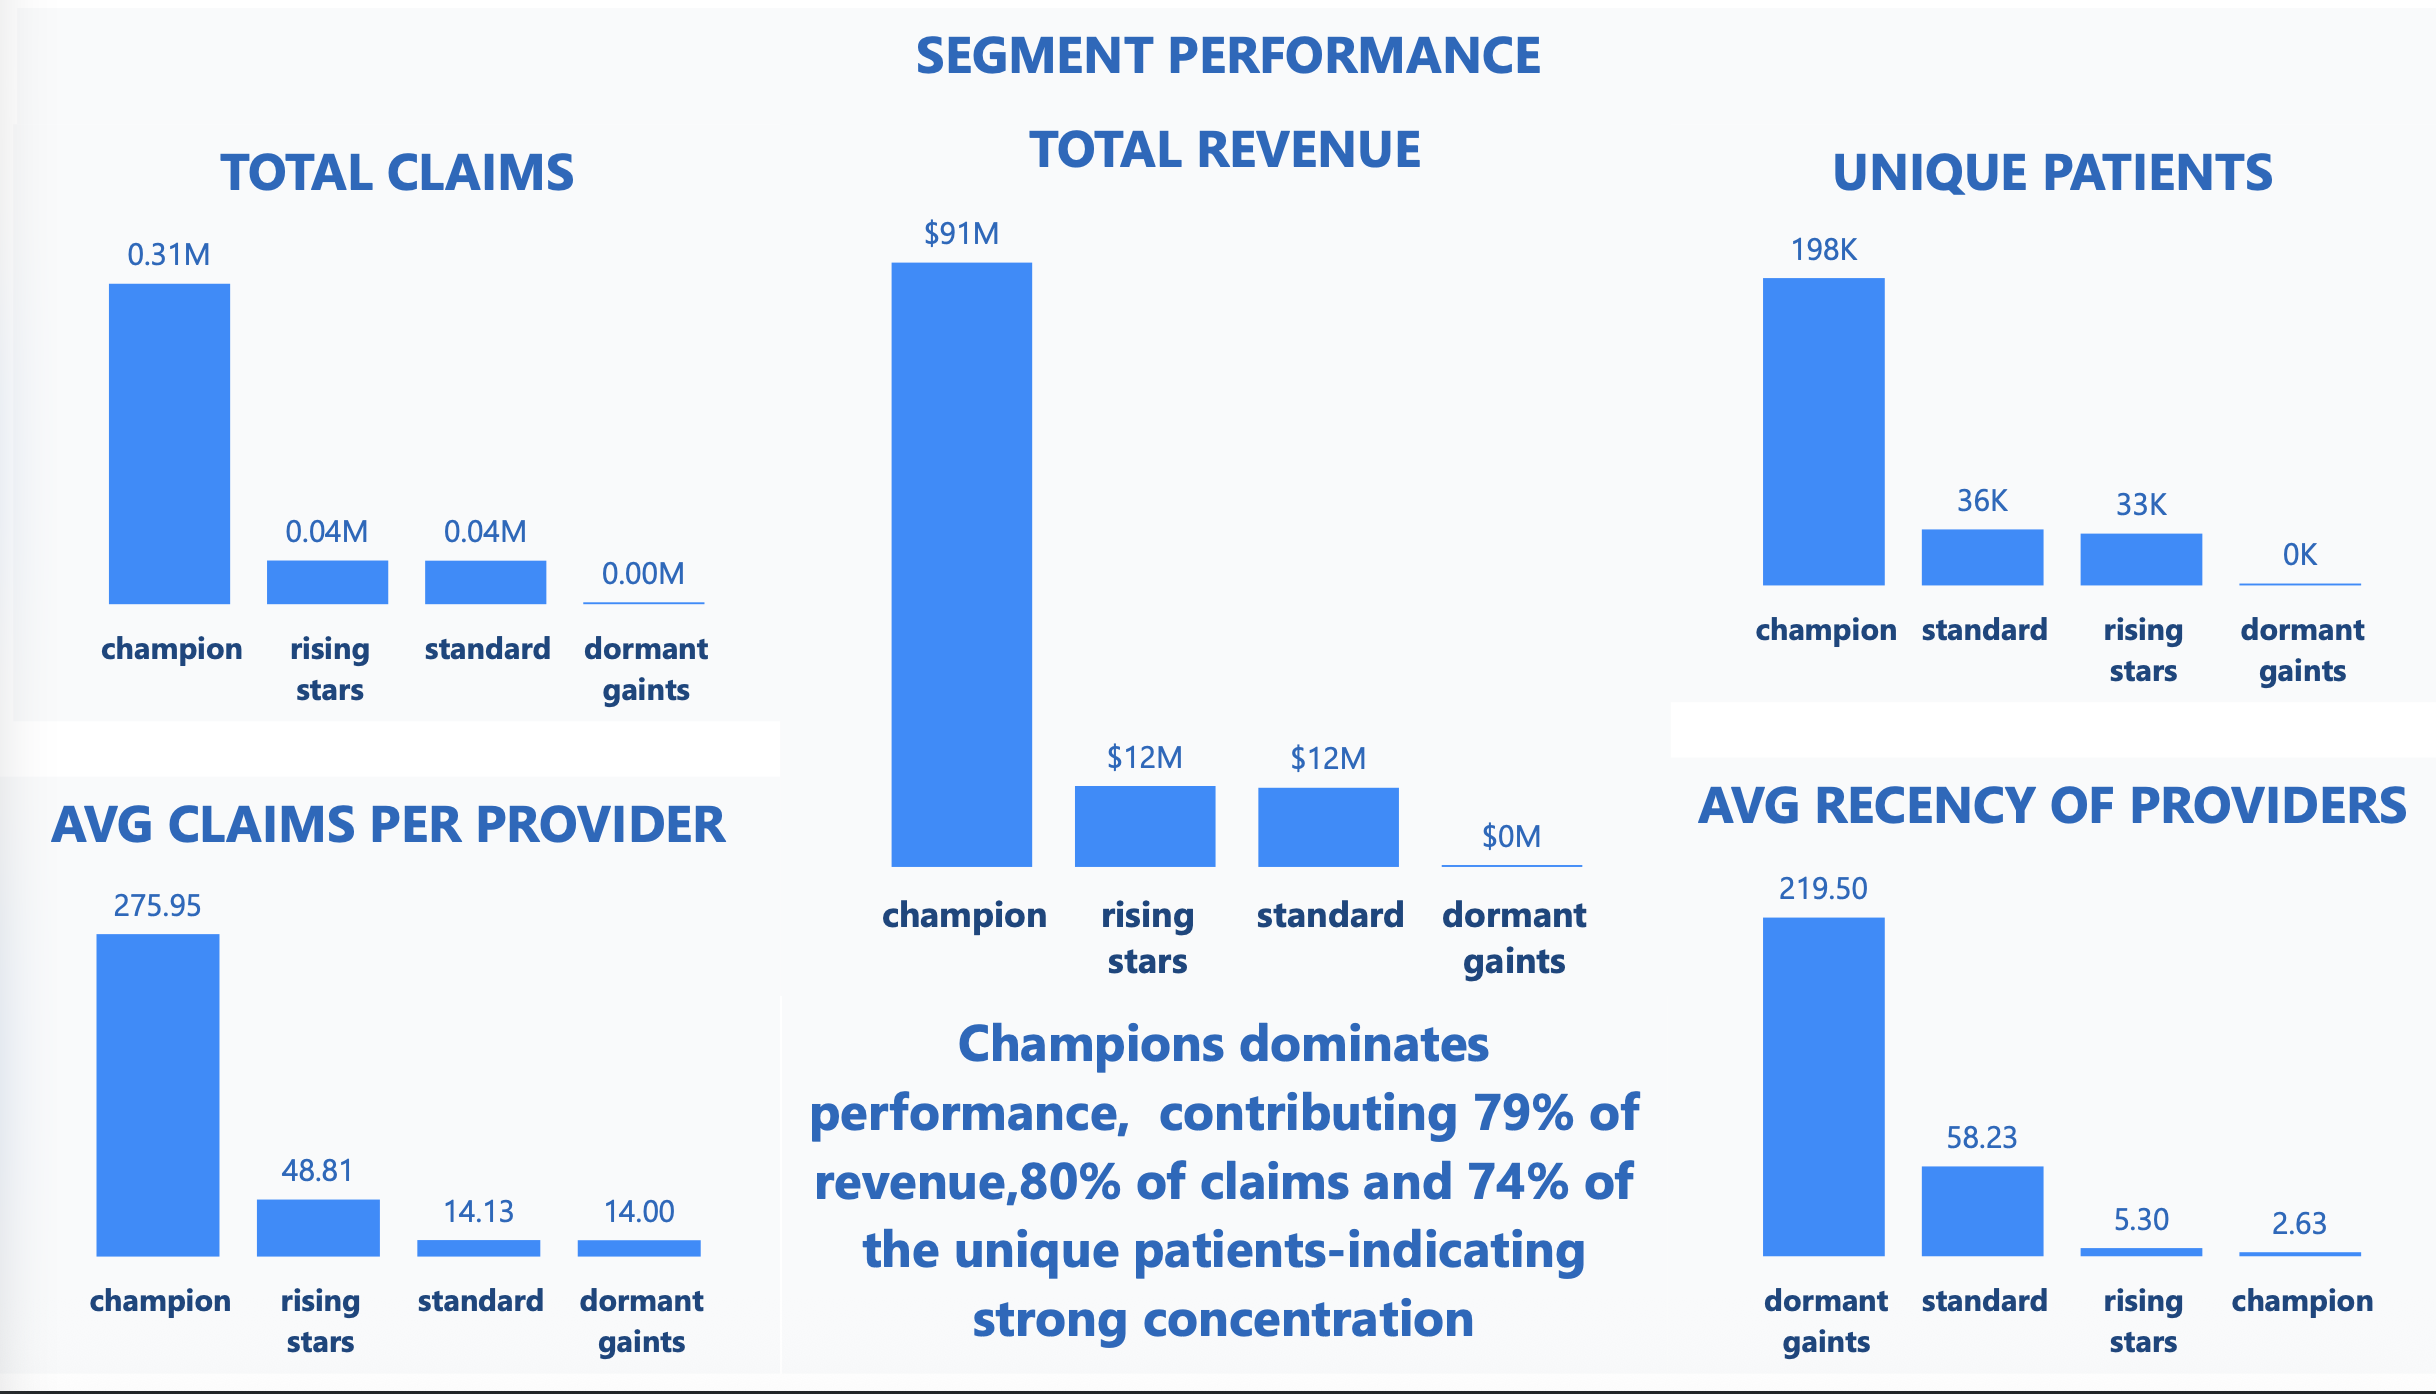

The page's visual inventory and layout, read from the dashboard file:
{"tool":"powerbi","page":{"name":"SEGMENT PERFORMANCE","canvas":[1280,720],"ordinal":1},"visuals":[{"type":"textbox","box":[9.8,0,1270.5,60.7],"z":0},{"type":"clusteredColumnChart","title":"TOTAL REVENUE ","fields":{"Category":["provider_segmentated_final.segment"],"Y":["Sum(provider_segmentated_final.total_revenue)"]},"box":[409.8,49.2,467.2,468.9],"z":1000},{"type":"clusteredColumnChart","title":"TOTAL CLAIMS","fields":{"Category":["provider_segmentated_final.segment"],"Y":["Sum(provider_segmentated_final.total_claim)"]},"box":[8.2,60.7,403.3,313.1],"z":2000},{"type":"clusteredColumnChart","title":"UNIQUE PATIENTS","fields":{"Category":["provider_segmentated_final.segment"],"Y":["Sum(provider_segmentated_final.unique_patients)"]},"box":[875.4,60.7,404.9,303.3],"z":3000},{"type":"clusteredColumnChart","title":"AVG CLAIMS PER PROVIDER","fields":{"Category":["provider_segmentated_final.segment"],"Y":["Avg(provider_segmentated_final.total_claim)"]},"box":[0,403.3,409.8,313.1],"z":4000},{"type":"clusteredColumnChart","title":"AVG RECENCY OF PROVIDERS","fields":{"Category":["provider_segmentated_final.segment"],"Y":["Avg(provider_segmentated_final.days_since_lastclaim)"]},"box":[875.4,393.4,404.9,323],"z":5000},{"type":"textbox","box":[411.5,518,463.9,198.4],"z":6000}]}

Visuals, with their boxes in screenshot pixels (x1, y1, x2, y2), scaled from the page's 1280x720 canvas onto the 2436x1394 screenshot:
textbox: {"left": 19, "top": 0, "right": 2435, "bottom": 118}
"TOTAL REVENUE " clusteredColumnChart: {"left": 780, "top": 95, "right": 1669, "bottom": 1003}
"TOTAL CLAIMS" clusteredColumnChart: {"left": 16, "top": 118, "right": 783, "bottom": 724}
"UNIQUE PATIENTS" clusteredColumnChart: {"left": 1666, "top": 118, "right": 2435, "bottom": 705}
"AVG CLAIMS PER PROVIDER" clusteredColumnChart: {"left": 0, "top": 781, "right": 780, "bottom": 1387}
"AVG RECENCY OF PROVIDERS" clusteredColumnChart: {"left": 1666, "top": 762, "right": 2435, "bottom": 1387}
textbox: {"left": 783, "top": 1003, "right": 1666, "bottom": 1387}
